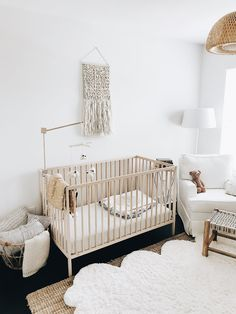crib: (41, 156, 175, 275)
